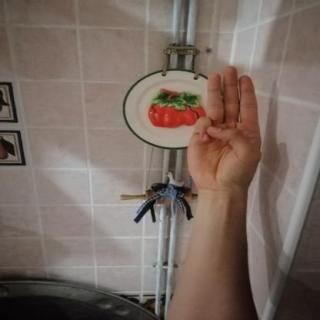THA: (175, 60, 272, 197)
